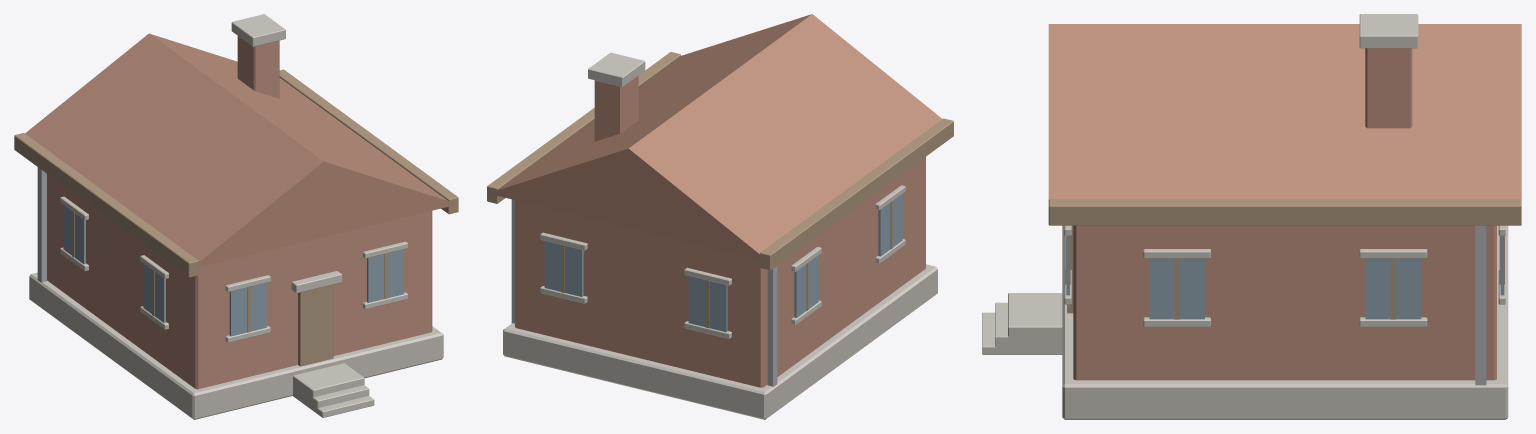
Rendered from residential_1.glb.
The picture shows the model from 3 angles, left to right: view 1: azimuth 30°, elevation 25°; view 2: azimuth 150°, elevation 25°; view 3: azimuth 270°, elevation 25°; orthographic projection. The views are drawn at different scales.
Visible parts, largest first — view 1: Roof with deep eaves, Main inhabited volume, Stone footing, Fascia, Door, Fascia.001, Chimney shaft, Entrance steps, Recessed glazing, Recessed glazing.002, Chimney cap, Drainpipe (+5 smaller); view 2: Roof with deep eaves, Main inhabited volume, Stone footing, Fascia, Chimney shaft, Fascia.001, Recessed glazing.001, Recessed glazing.003, Chimney cap, Drainpipe, Recessed glazing.004, Recessed glazing.006 (+1 smaller); view 3: Roof with deep eaves, Main inhabited volume, Stone footing, Fascia.001, Chimney shaft, Entrance steps, Recessed glazing.007, Recessed glazing.005, Chimney cap, Drainpipe.001, Entrance steps.001, Entrance steps.002 (+4 smaller).
Part boxes in pixels (left/top/right/bottom): Roof with deep eaves: left=25, top=33, right=457, bottom=269; Main inhabited volume: left=47, top=174, right=432, bottom=389; Stone footing: left=29, top=272, right=443, bottom=419; Fascia: left=14, top=133, right=198, bottom=277; Door: left=298, top=284, right=333, bottom=366; Fascia.001: left=279, top=69, right=458, bottom=214; Chimney shaft: left=237, top=36, right=279, bottom=98; Entrance steps: left=292, top=363, right=364, bottom=410; Recessed glazing: left=229, top=283, right=266, bottom=336; Recessed glazing.002: left=367, top=249, right=403, bottom=302; Chimney cap: left=231, top=14, right=285, bottom=46; Drainpipe: left=37, top=167, right=46, bottom=282; Roof with deep eaves: left=488, top=14, right=942, bottom=261; Main inhabited volume: left=515, top=157, right=925, bottom=387; Stone footing: left=503, top=264, right=937, bottom=419; Fascia: left=760, top=118, right=953, bottom=270; Chimney shaft: left=594, top=75, right=638, bottom=141; Fascia.001: left=487, top=52, right=680, bottom=203; Recessed glazing.001: left=688, top=276, right=727, bottom=332; Recessed glazing.003: left=544, top=241, right=583, bottom=296; Chimney cap: left=588, top=52, right=645, bottom=86; Drainpipe: left=767, top=266, right=777, bottom=386; Recessed glazing.004: left=878, top=194, right=902, bottom=256; Recessed glazing.006: left=794, top=255, right=818, bottom=317; Roof with deep eaves: left=1048, top=24, right=1521, bottom=199; Main inhabited volume: left=1073, top=225, right=1496, bottom=380; Stone footing: left=1062, top=225, right=1508, bottom=419; Fascia.001: left=1048, top=199, right=1521, bottom=225; Chimney shaft: left=1365, top=48, right=1412, bottom=128; Entrance steps: left=1008, top=293, right=1062, bottom=354; Recessed glazing.007: left=1365, top=258, right=1421, bottom=319; Recessed glazing.005: left=1149, top=258, right=1204, bottom=319; Chimney cap: left=1359, top=14, right=1418, bottom=48; Drainpipe.001: left=1475, top=225, right=1486, bottom=385; Entrance steps.001: left=995, top=302, right=1061, bottom=354; Entrance steps.002: left=982, top=312, right=1048, bottom=354.
Size of the model in its own units: 0.468 by 0.433 by 0.5988.
